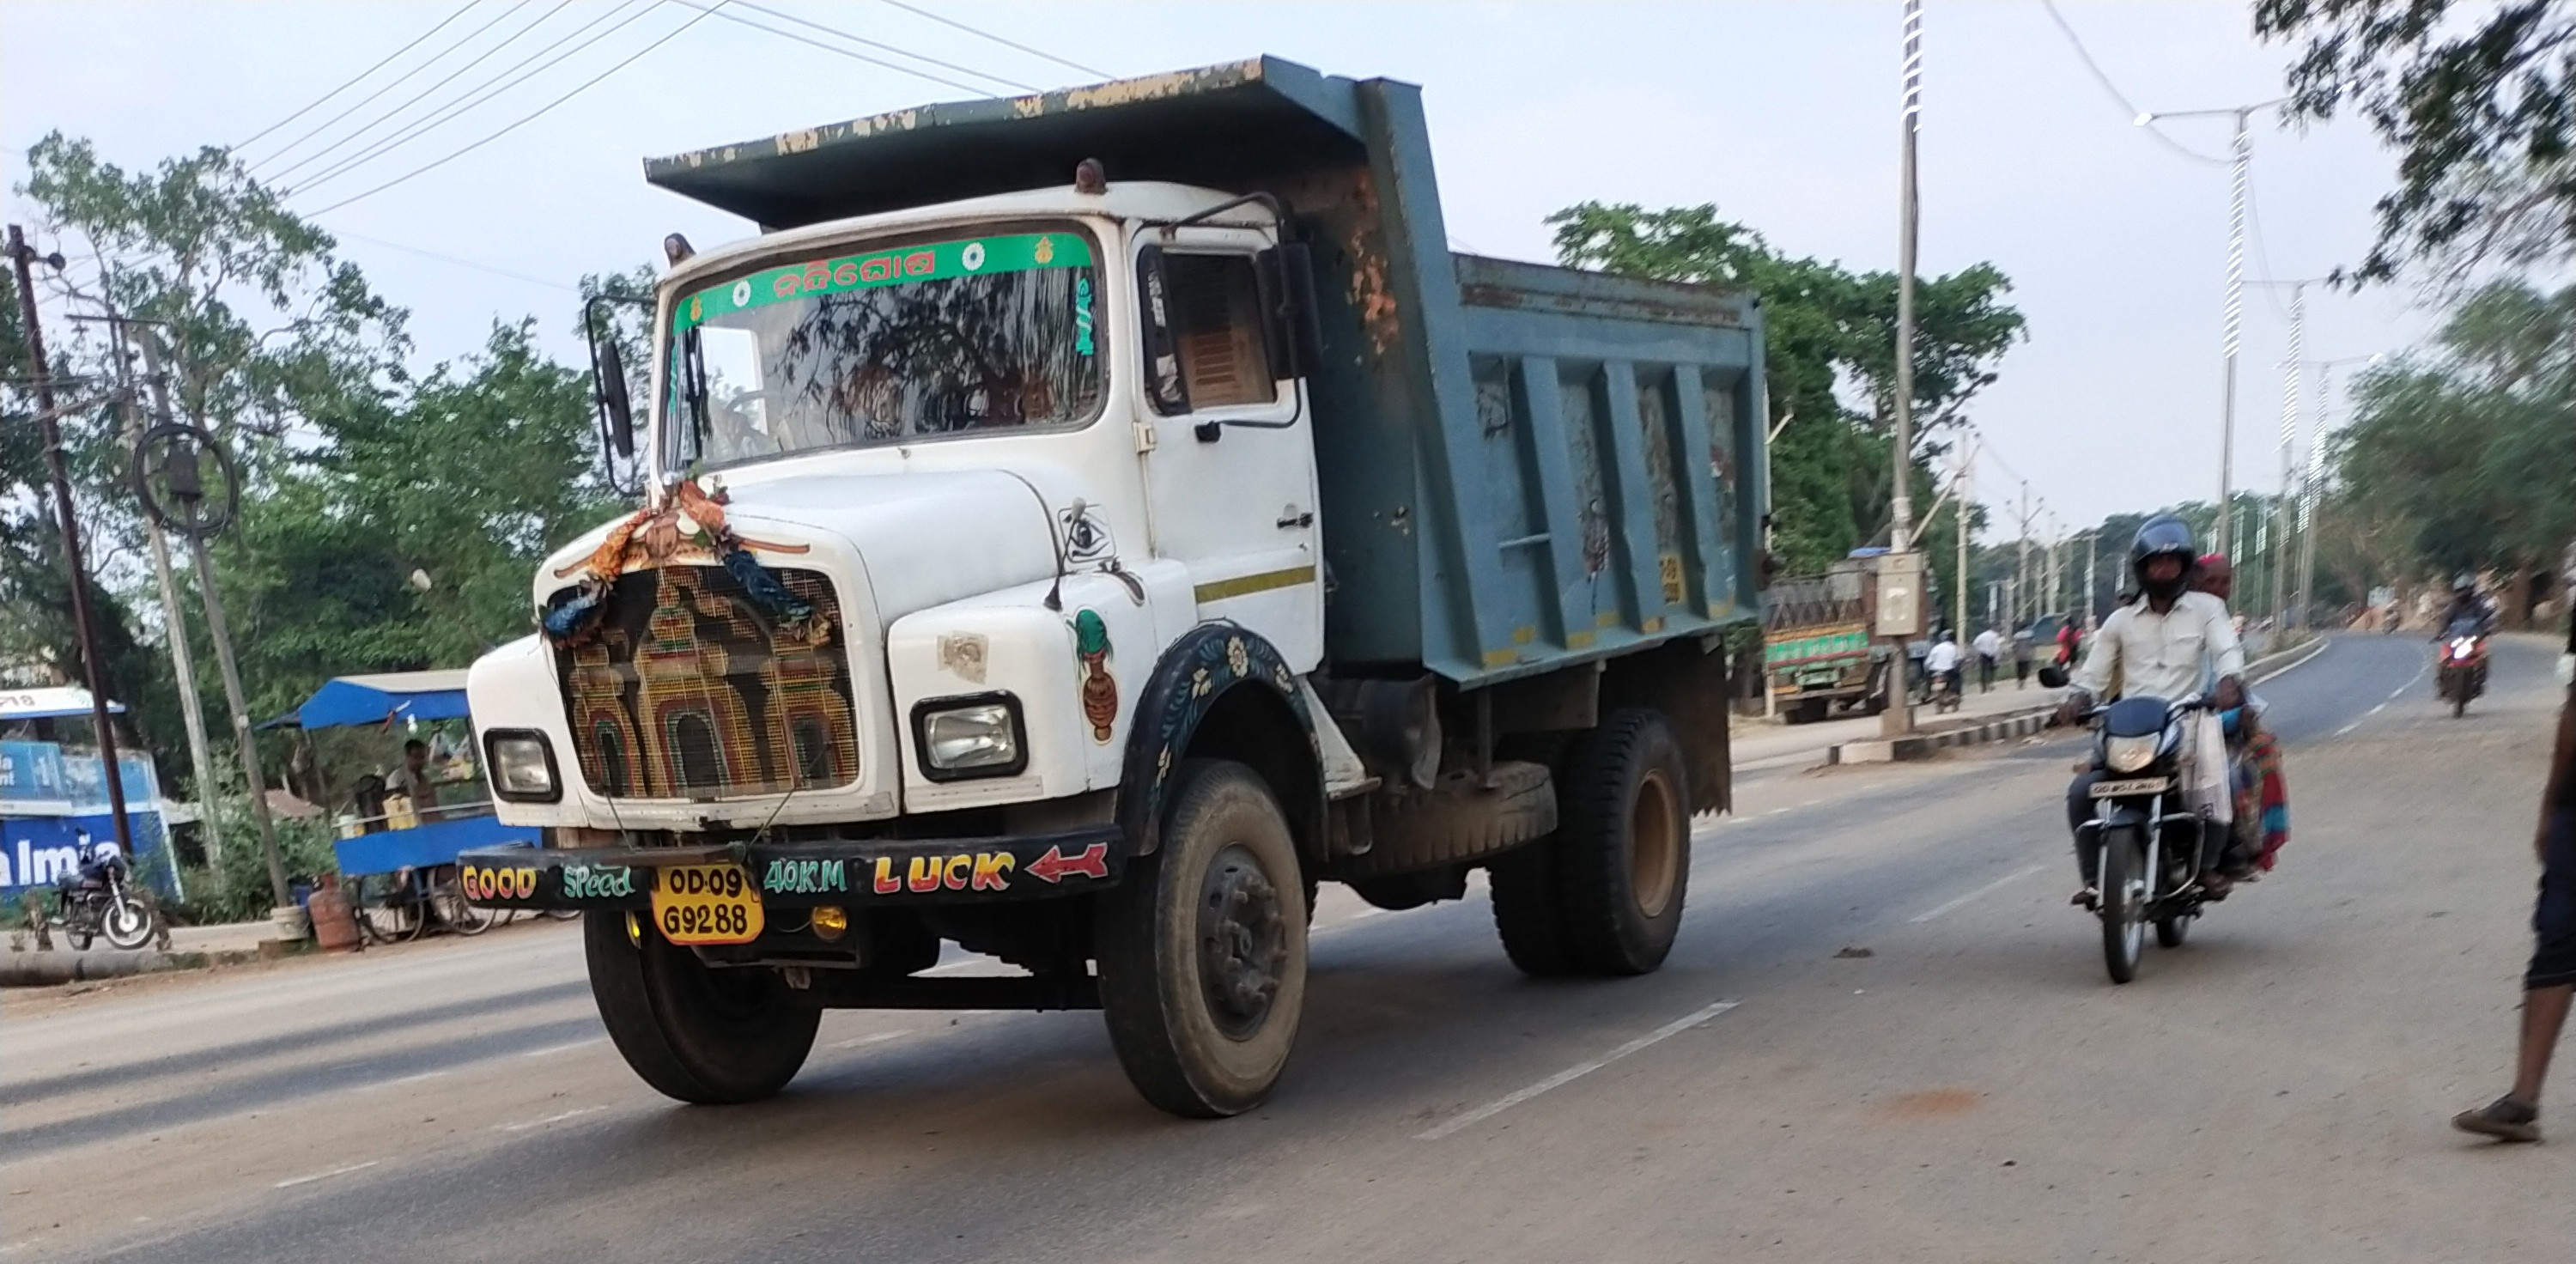lorry: (453, 141, 1853, 1070)
plate: (613, 853, 823, 963)
